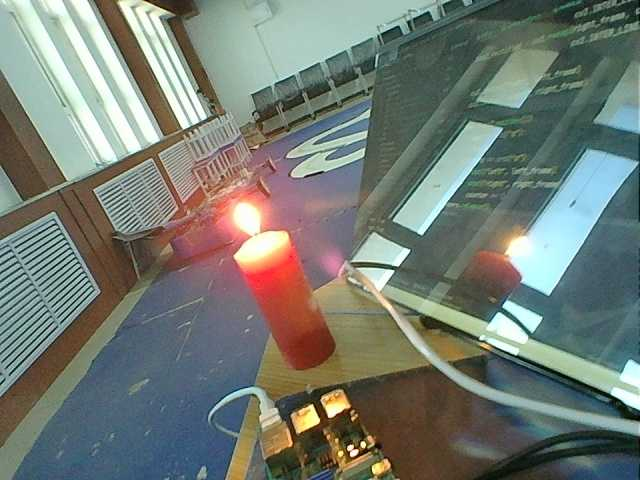candle: (225, 244, 339, 373)
fire: (220, 196, 270, 240), (497, 231, 529, 260)
